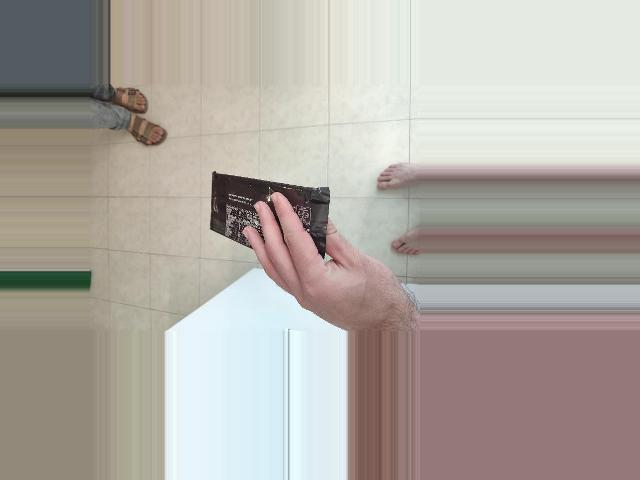chocolate: (205, 171, 353, 275)
